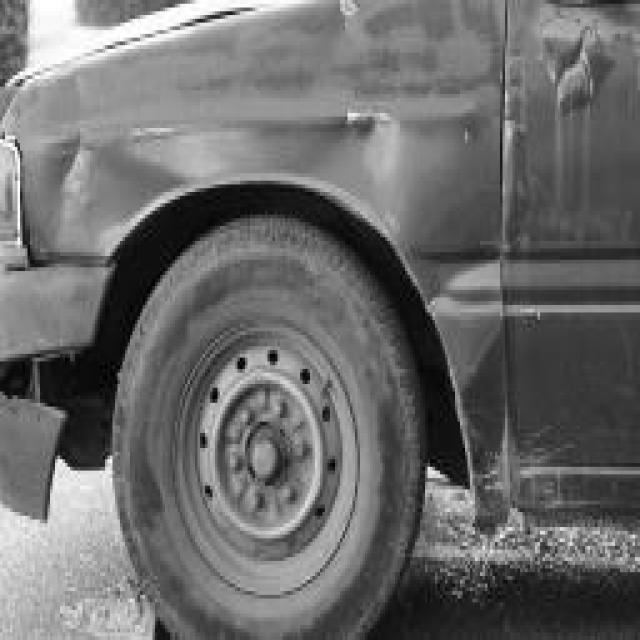Bumper: (0, 260, 105, 535)
Door: (505, 4, 640, 550)
Fender: (55, 87, 502, 516)
